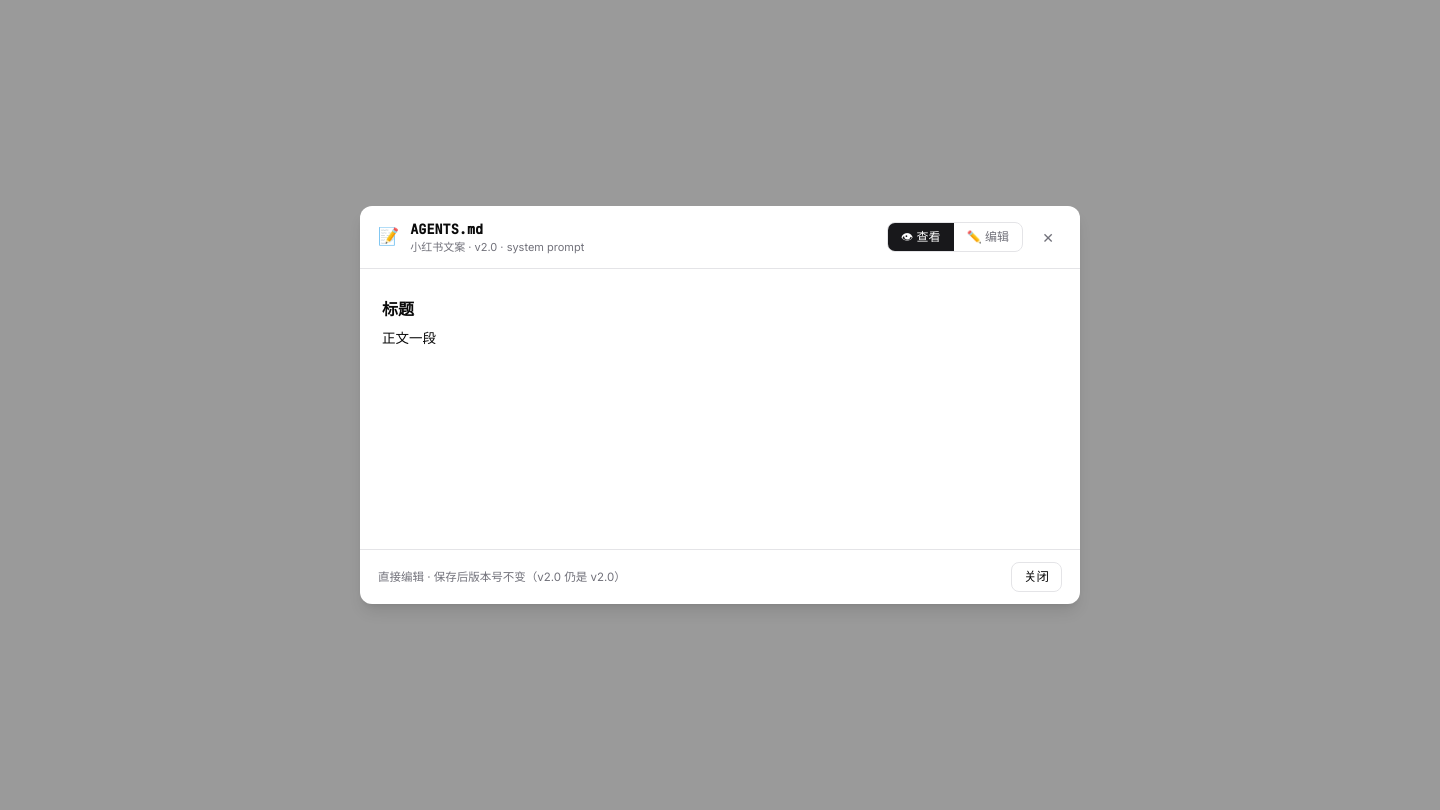
Test case: ComponentModalMdEditor — view/edit 切换 › 点「✏️ 编辑」→ 切 edit：textarea 带原文 + 保存按钮出现
The image size is (1440, 810).
Click the button "✏️ 编辑". click: (988, 237)
box: [954,223,1022,251]
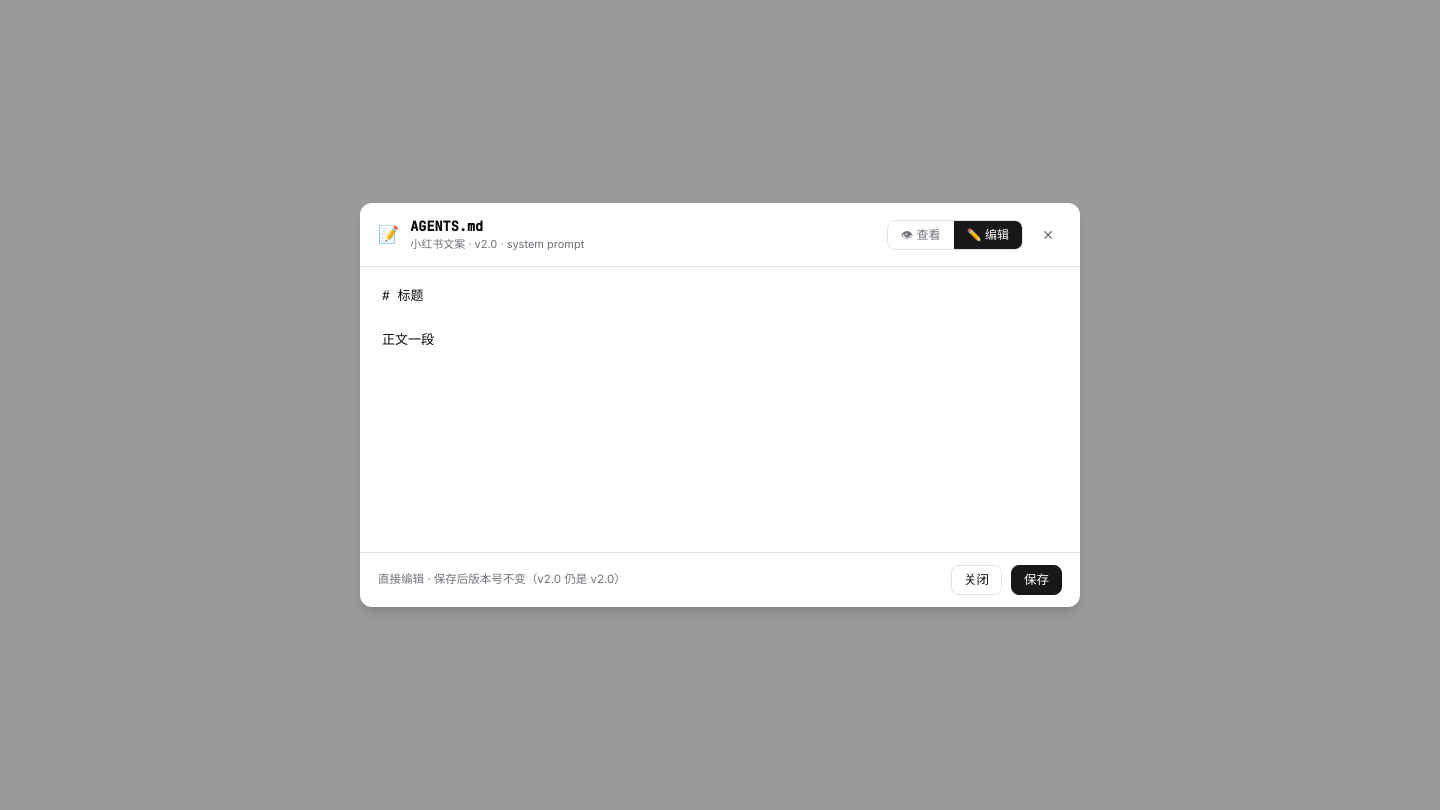
Now the text box is shown, box [360,267,1080,547]
Now the button "保存" is shown, box [1011,565,1062,595]
